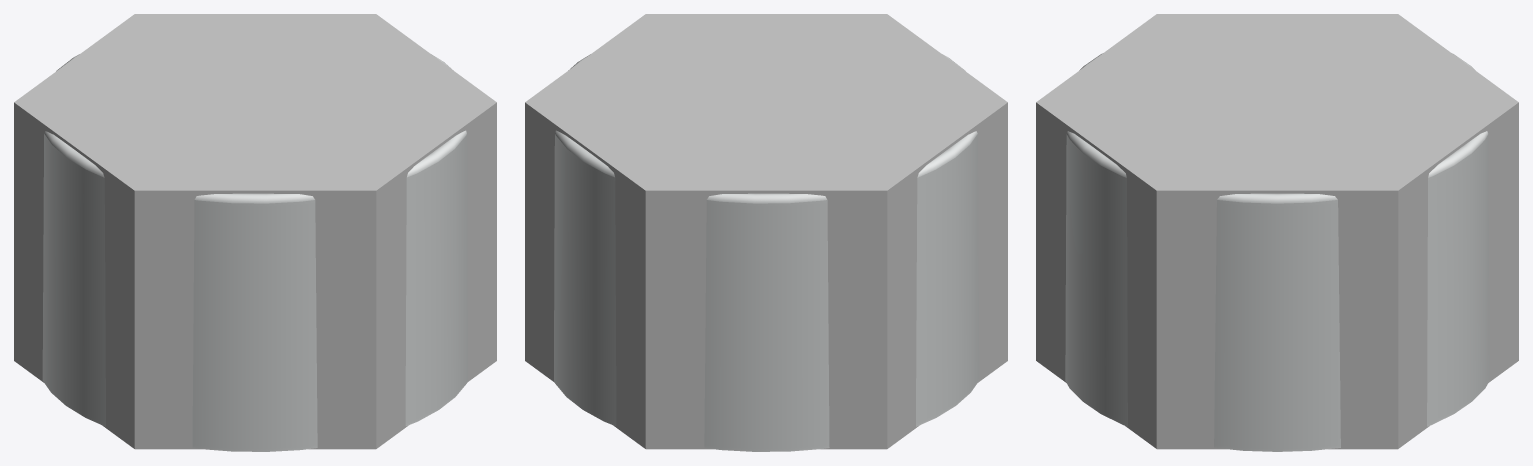
Rendered from SM_Props_TableLaounge_A_V3.fbx.
The picture shows the model from 3 angles, left to right: view 1: azimuth 30°, elevation 25°; view 2: azimuth 150°, elevation 25°; view 3: azimuth 270°, elevation 25°; orthographic projection.
Parts seen in each view (by area): view 1: SM_Props_TableLaounge_A_V3_ConvexHulls, SM_Props_TableLaounge_A_V3; view 2: SM_Props_TableLaounge_A_V3_ConvexHulls, SM_Props_TableLaounge_A_V3; view 3: SM_Props_TableLaounge_A_V3_ConvexHulls, SM_Props_TableLaounge_A_V3.
Boxes of the visible parts, <box> form: SM_Props_TableLaounge_A_V3_ConvexHulls: <box>14,14,496,449</box>; SM_Props_TableLaounge_A_V3: <box>42,54,467,451</box>; SM_Props_TableLaounge_A_V3_ConvexHulls: <box>525,14,1007,449</box>; SM_Props_TableLaounge_A_V3: <box>554,54,979,451</box>; SM_Props_TableLaounge_A_V3_ConvexHulls: <box>1036,14,1518,449</box>; SM_Props_TableLaounge_A_V3: <box>1065,53,1489,451</box>.
Bounding box in the file's own units: 58.74 × 64.81 × 38.29.
2 materials, 1 textured.
